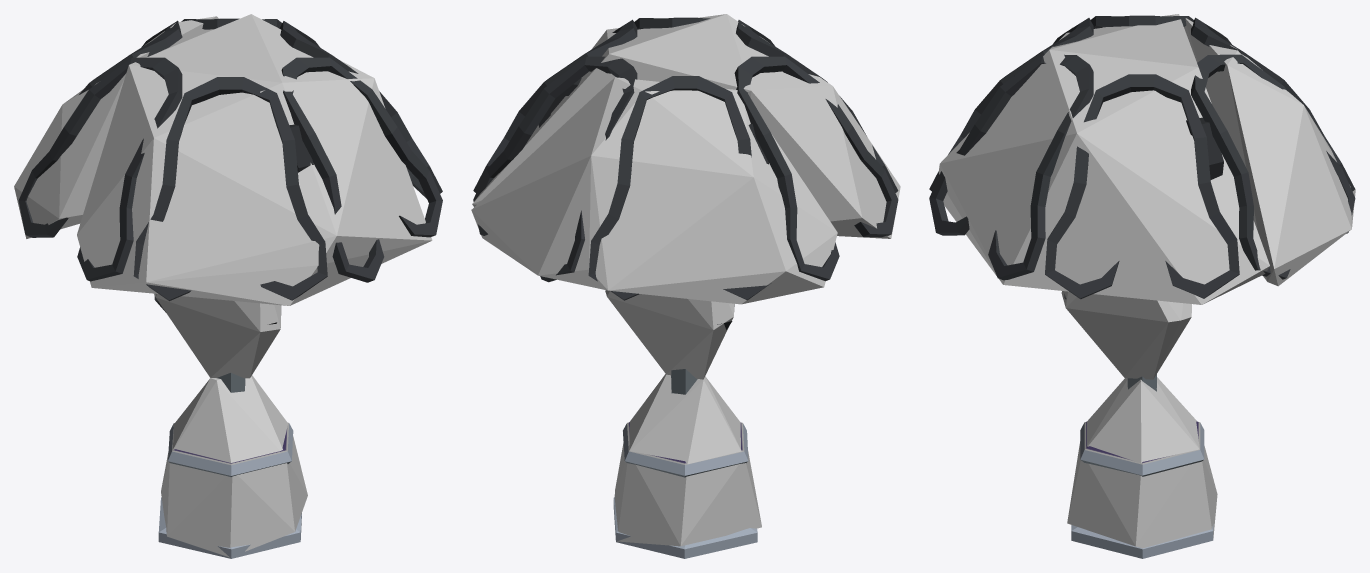
File: SM_Prop_Lamp_01.fbx
3 views of the same model, side by side, from view 1: azimuth 30°, elevation 25°; view 2: azimuth 150°, elevation 25°; view 3: azimuth 270°, elevation 25° (orthographic).
Parts seen in each view (by area): view 1: SM_Prop_Lamp_01_ConvexHulls, SM_Prop_Lamp_01; view 2: SM_Prop_Lamp_01_ConvexHulls, SM_Prop_Lamp_01; view 3: SM_Prop_Lamp_01_ConvexHulls, SM_Prop_Lamp_01.
Boxes of the visible parts, x1,y1,x2,y2 form: SM_Prop_Lamp_01_ConvexHulls: (14, 14, 432, 557); SM_Prop_Lamp_01: (18, 18, 442, 558); SM_Prop_Lamp_01_ConvexHulls: (471, 14, 900, 546); SM_Prop_Lamp_01: (473, 17, 898, 558); SM_Prop_Lamp_01_ConvexHulls: (938, 14, 1355, 548); SM_Prop_Lamp_01: (929, 15, 1355, 558).
Size of the model in its own units: 60.72 by 63.91 by 79.41.
2 materials, 1 textured.
